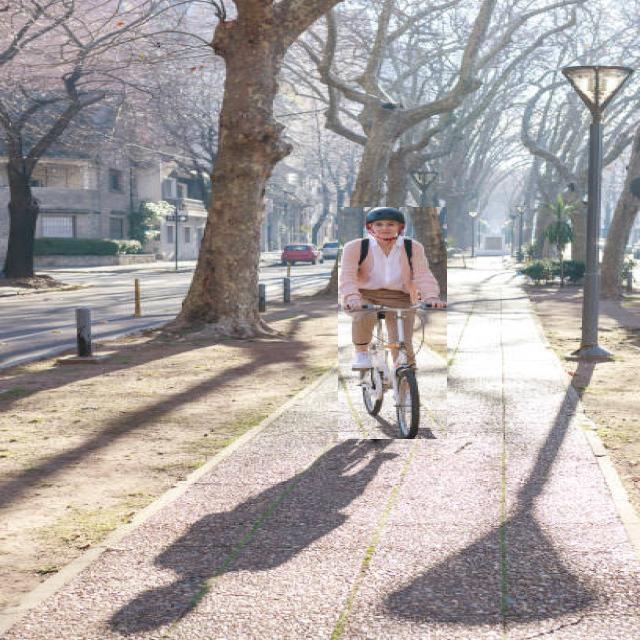bicycle: (338, 207, 447, 439)
